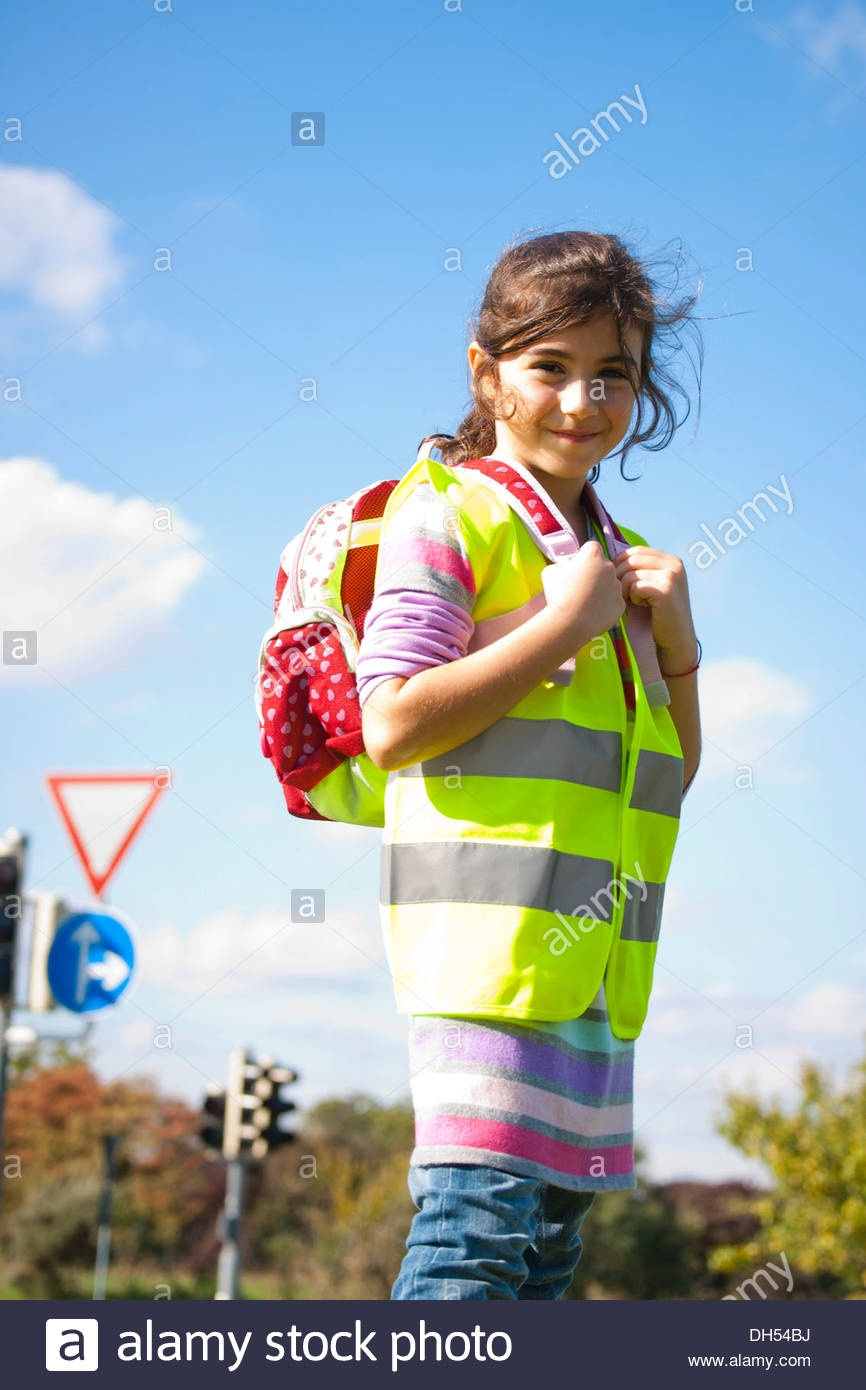person with partial safety: (371, 218, 681, 1289)
safety vest: (381, 463, 671, 1022)
